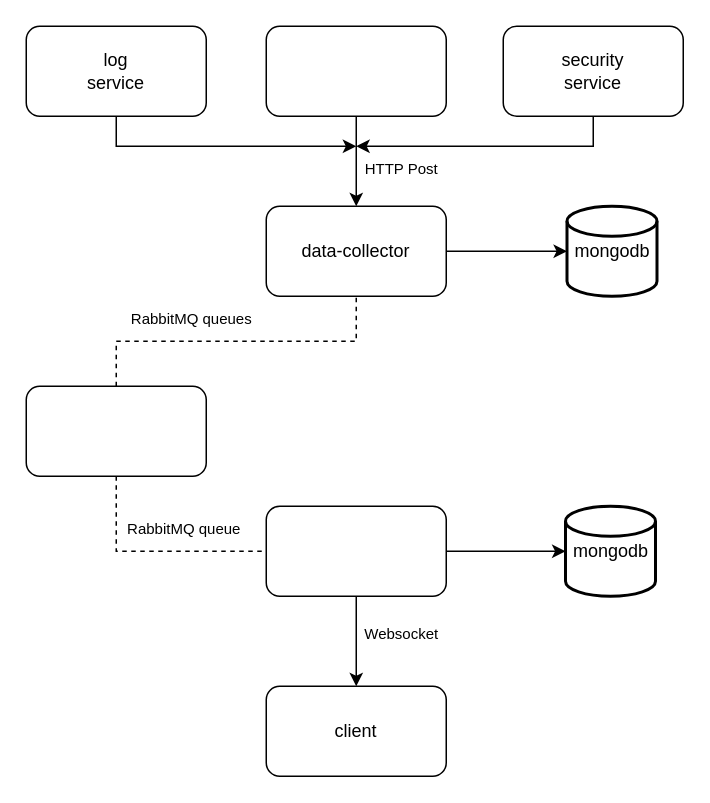
Some shapes in this 710 by 803 pixel diagram are drawn without their labels. Each missing label, with the centre of its shape:
alert-manager: point 355,550
metrics service: point 355,70
rule-engine: point 115,430
